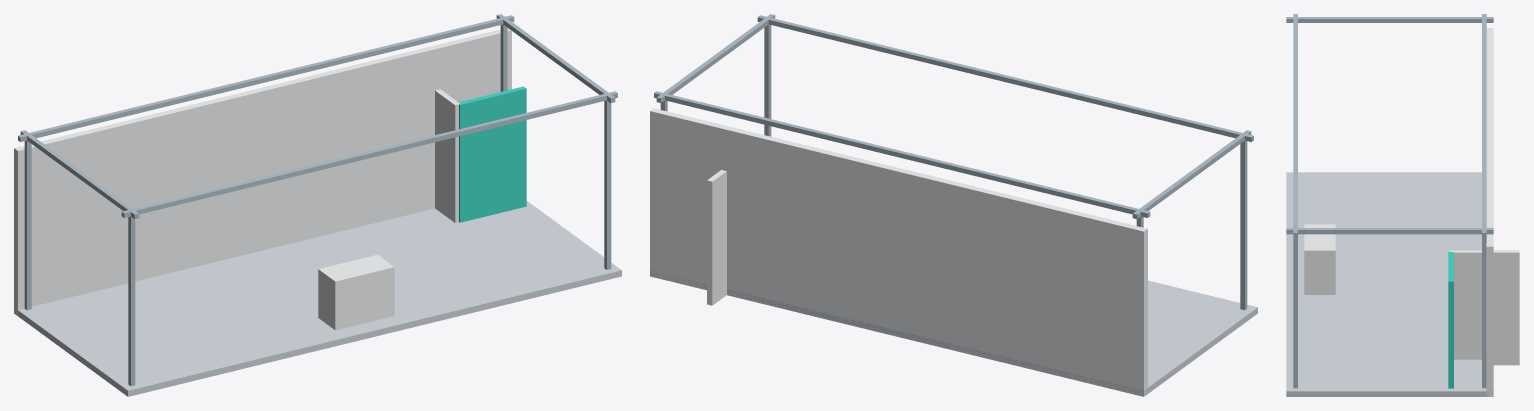
3 views of the same model, side by side, from view 1: azimuth 30°, elevation 25°; view 2: azimuth 150°, elevation 25°; view 3: azimuth 270°, elevation 25° (orthographic). The views are drawn at different scales.
Visible parts, largest first — view 1: Exhibition Booth Concept; view 2: Exhibition Booth Concept; view 3: Exhibition Booth Concept.
Boxes of the visible parts, left/top/right/bottom form: Exhibition Booth Concept: left=14, top=14, right=621, bottom=396; Exhibition Booth Concept: left=650, top=14, right=1257, bottom=396; Exhibition Booth Concept: left=1286, top=14, right=1519, bottom=396.
Size of the model in its own units: 10 by 3.49 by 4.51.
